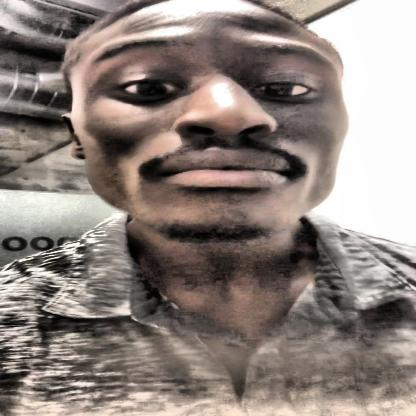not_wear: (49, 0, 363, 243)
